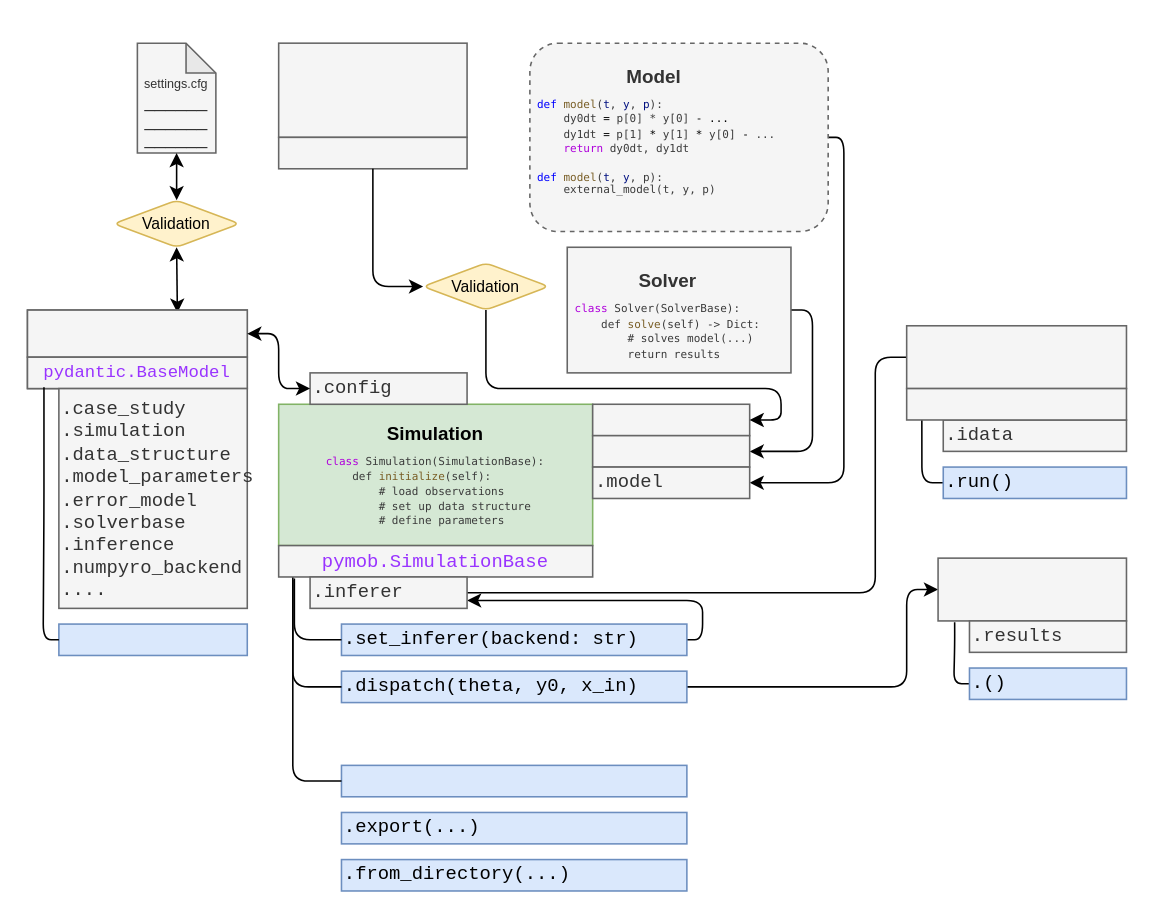
Some shapes in this 1154 by 918 pixel diagram are drawn without their labels. Here are the shapes that lost their labels. From the top down, the centre of each, then its label:
At pixel 372 89: "Observations".
At pixel 372 152: "xarray.Dataset".
At pixel 136 333: "Config".
At pixel 1015 356: "Inferer".
At pixel 670 419: ".observations".
At pixel 1015 403: "pymob.InferenceBase".
At pixel 670 450: ".solver".
At pixel 1031 589: "Evaluator".
At pixel 152 639: ".save(path: str)".
At pixel 513 780: ".report(...)".
